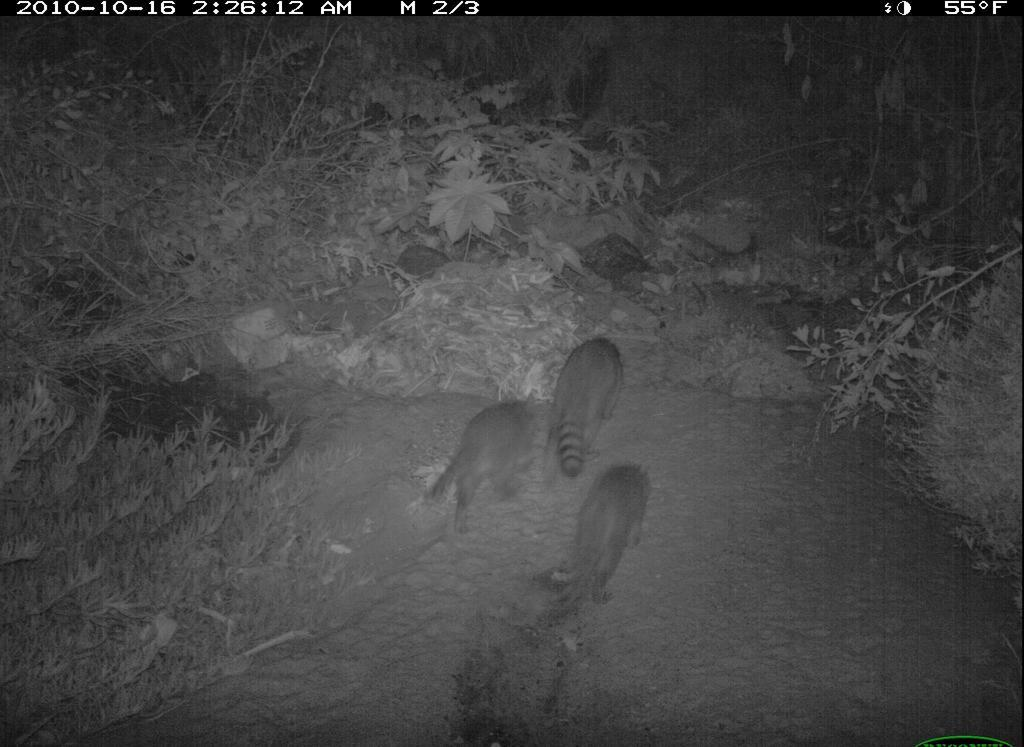raccoon: (442, 319, 694, 634)
